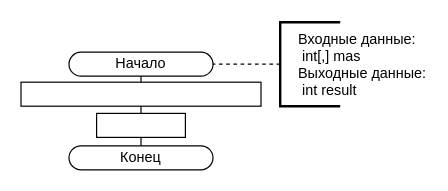
Image size: 448x191. Some labels were removed from this diagram. The box of each missing label's shape, as (x1, y1, x2, y2) in pixels:
result = (int)Math.Sqrt(mas.Length): (20, 81, 261, 106)
return result: (95, 112, 185, 137)
